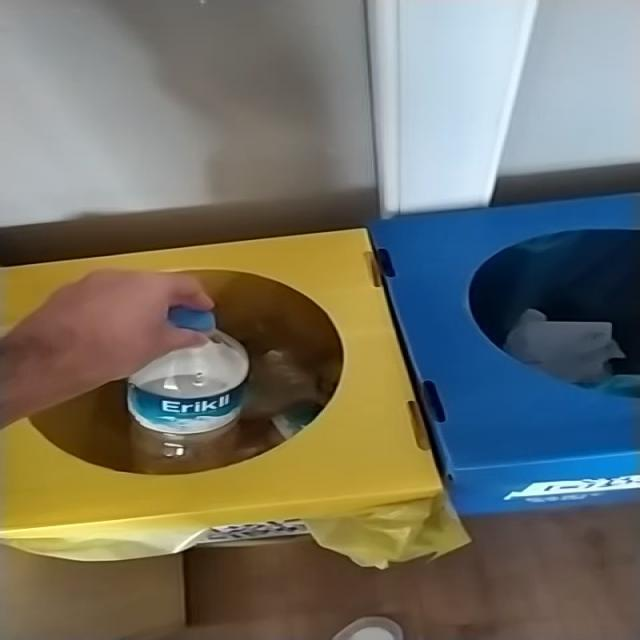Plastic: (127, 307, 249, 474)
